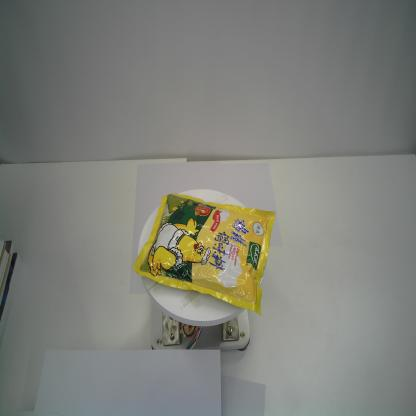Seasoner: (133, 193, 277, 317)
